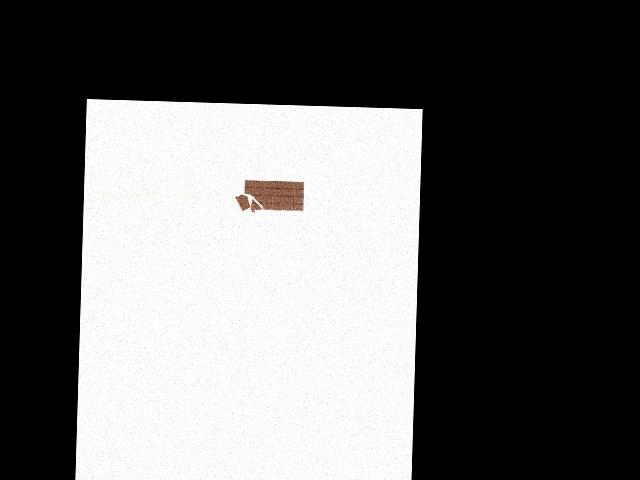chocolate: (234, 175, 305, 220)
